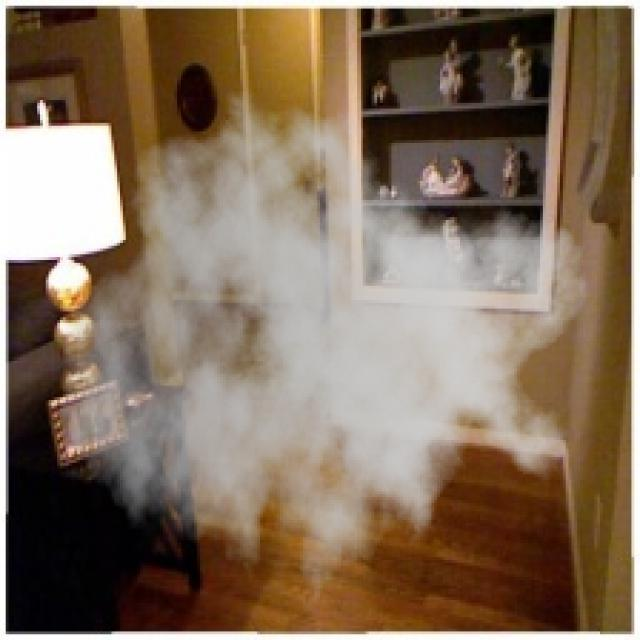Smoke: (59, 77, 592, 623)
